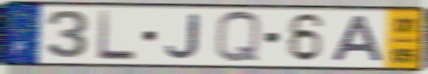3: (43, 9, 93, 61)
6: (284, 12, 325, 64)
A: (329, 14, 386, 64)
J: (163, 13, 201, 61)
L: (95, 9, 139, 63)
Q: (213, 9, 263, 66)
